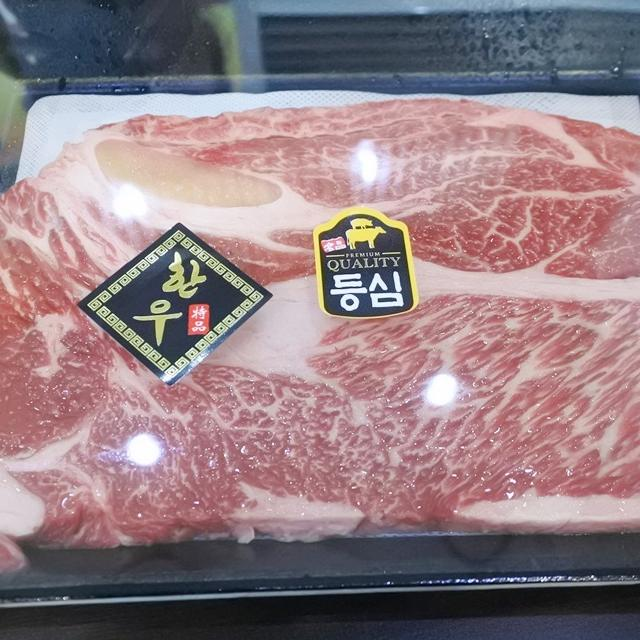beef: (0, 13, 640, 558)
